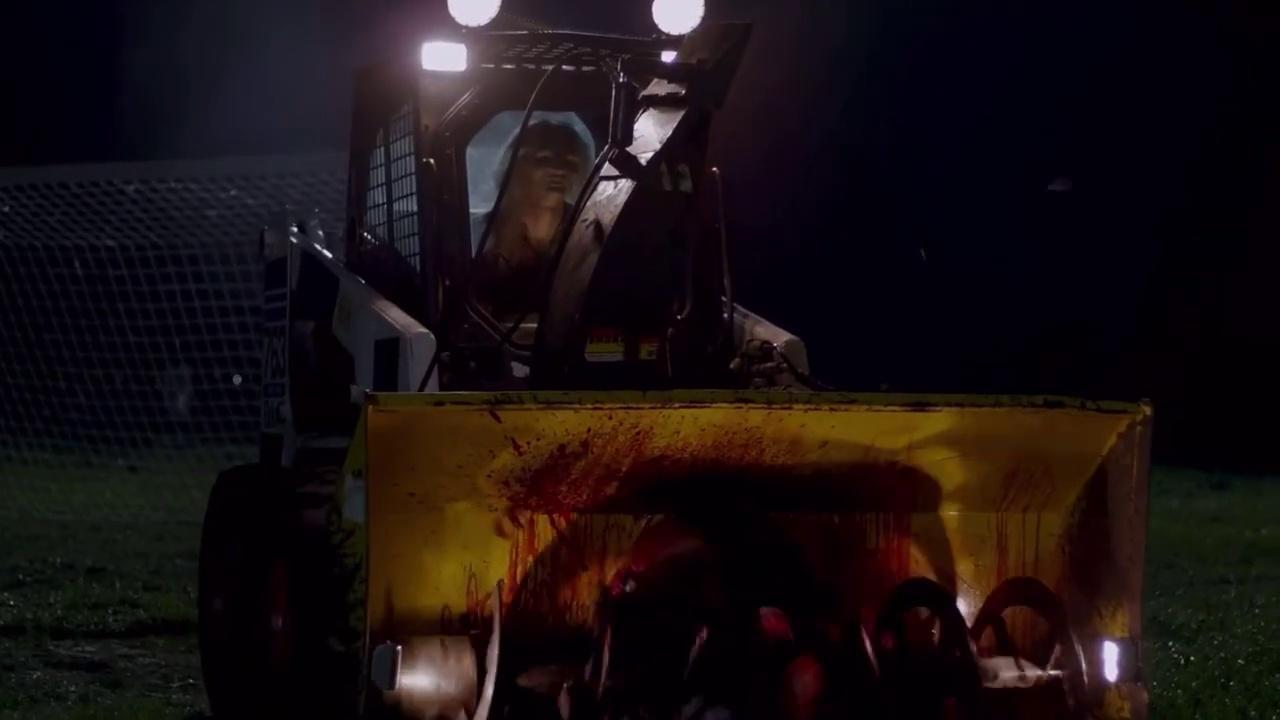Fire: (463, 403, 1059, 651)
